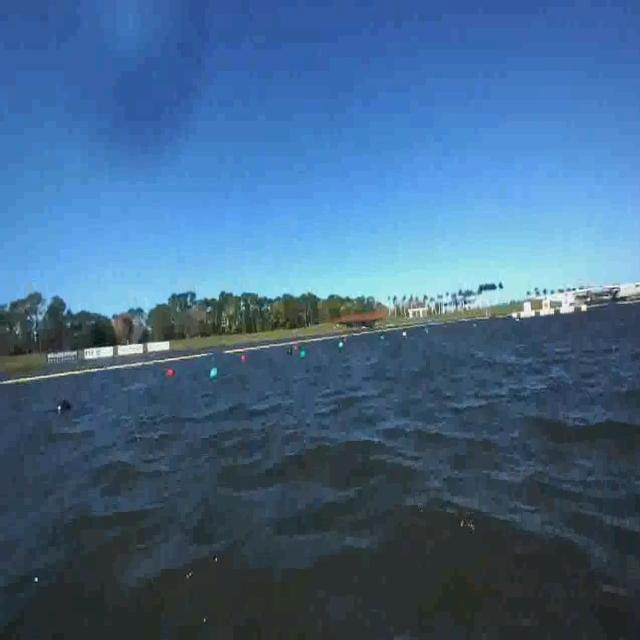black-buoy: (60, 398, 73, 412)
green-buoy: (210, 366, 220, 380)
red-buoy: (168, 367, 176, 377)
